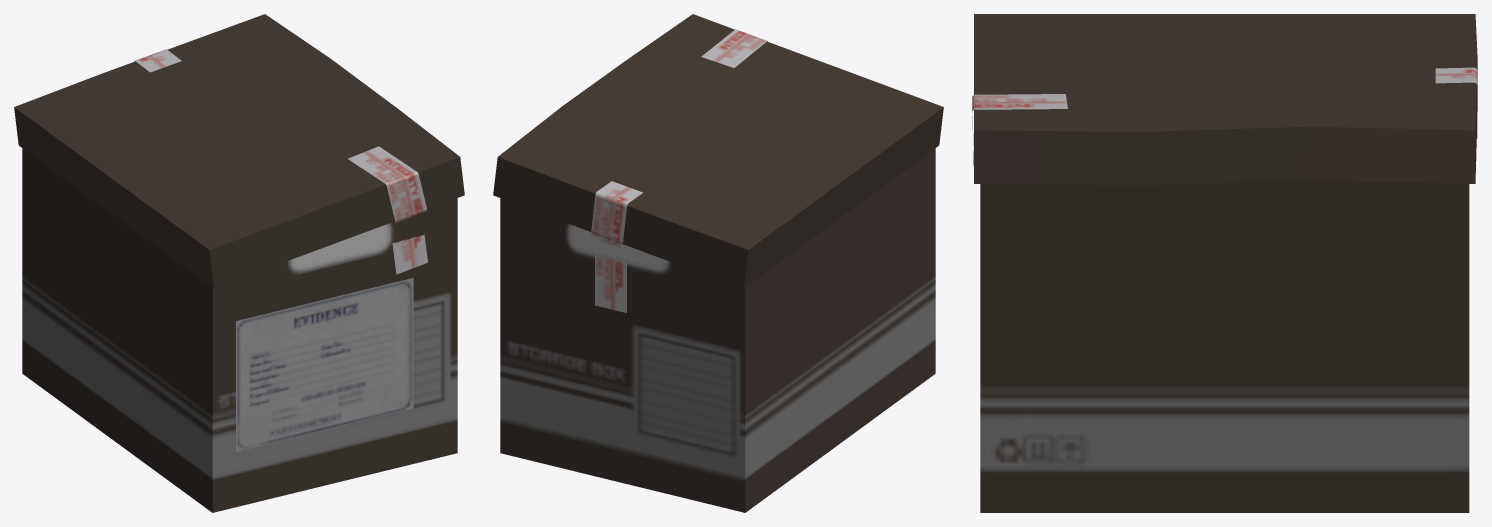
The model's file is FBX_BoxPortableG.fbx.
3 views of the same model, side by side, from view 1: azimuth 30°, elevation 25°; view 2: azimuth 150°, elevation 25°; view 3: azimuth 270°, elevation 25° (orthographic). The views are drawn at different scales.
Parts seen in each view (by area): view 1: SM_BoxPortableG; view 2: SM_BoxPortableG; view 3: SM_BoxPortableG.
Boxes of the visible parts, x1,y1,x2,y2 form: SM_BoxPortableG: (14,14,464,512); SM_BoxPortableG: (493,14,943,512); SM_BoxPortableG: (972,14,1477,512).
Bounding box in the file's own units: 0.3053 × 0.3403 × 0.4029.
